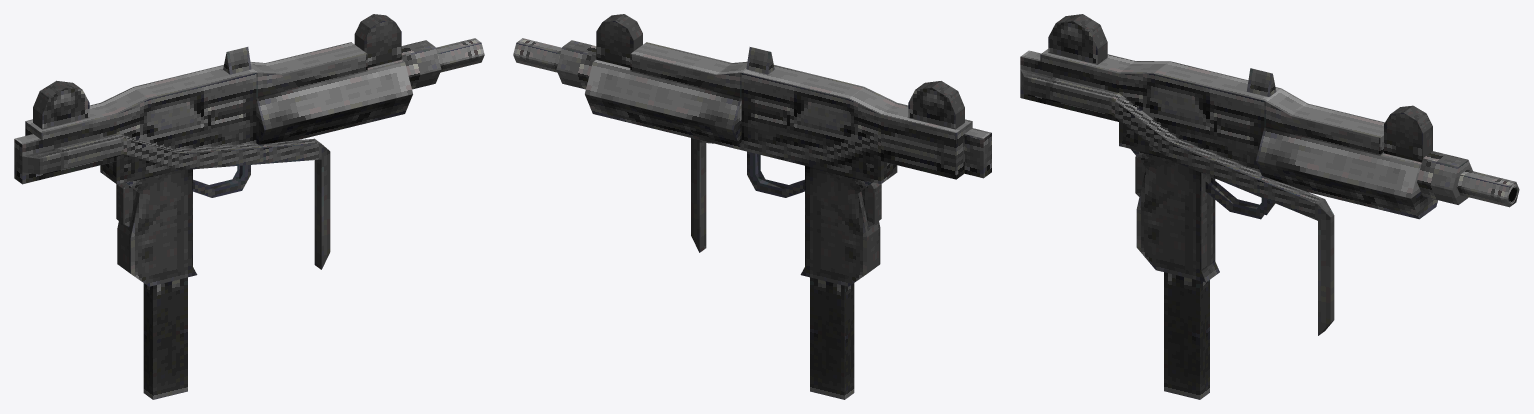
Rendered from uzi__N000_uzi_high_v0100.glb.
The picture shows the model from 3 angles, left to right: view 1: azimuth 30°, elevation 25°; view 2: azimuth 150°, elevation 25°; view 3: azimuth 330°, elevation 25°; orthographic projection. The views are drawn at different scales.
Visible parts, largest first — view 1: N000_uzi_high_v0100; view 2: N000_uzi_high_v0100; view 3: N000_uzi_high_v0100.
Part boxes in pixels (x1,y1,x2,y2): N000_uzi_high_v0100: (14, 14, 484, 399); N000_uzi_high_v0100: (513, 14, 991, 399); N000_uzi_high_v0100: (1020, 14, 1519, 399).
Bounding box in the file's own units: 0.5631 × 0.3866 × 0.0686.
Materials: 2 (2 with a texture image).
